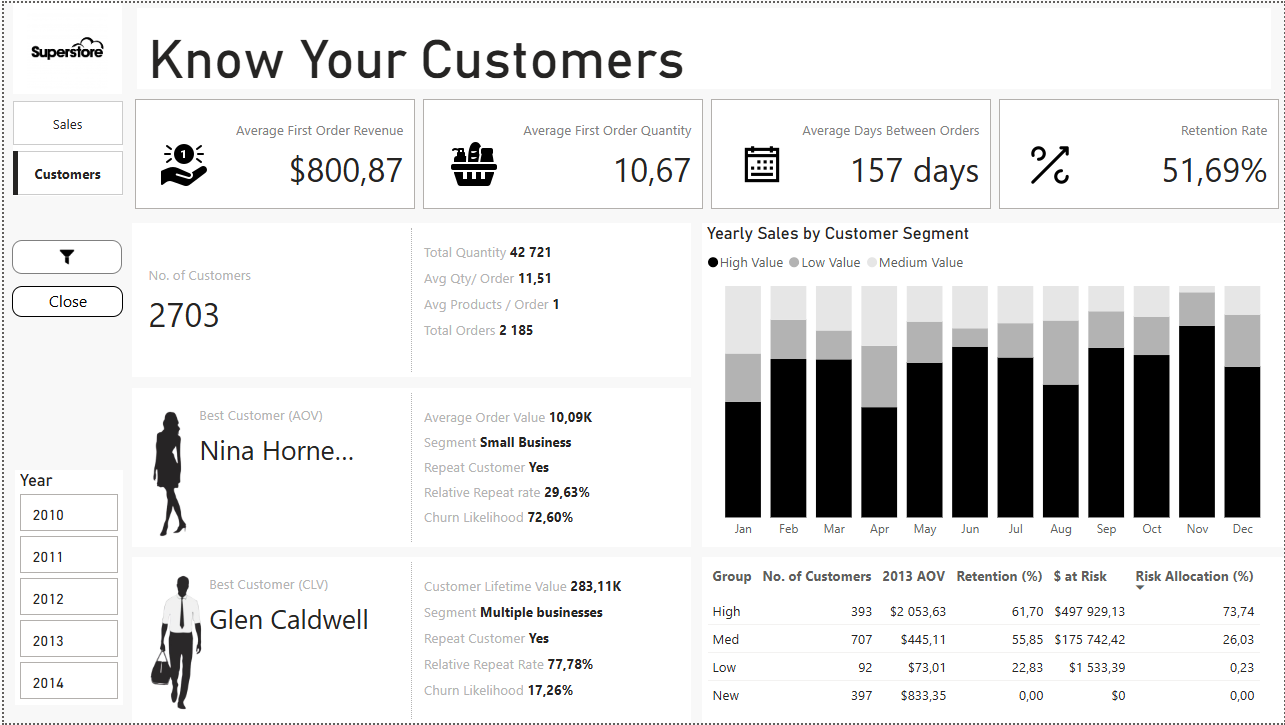

What the dashboard file says about the page in this screenshot:
{"tool":"powerbi","page":{"name":"Customers","canvas":[1280,720],"ordinal":1},"visuals":[{"type":"tableEx","fields":{"Values":["risk_budget.Customer Group","Sum(risk_budget.Number of Customers)","risk_budget.2013 AOV","risk_budget.Retention (%)","risk_budget.$ at Risk","risk_budget.Risk Allocation (%)"]},"box":[698.4,553.6,581.8,166.9],"z":0},{"type":"cardVisual","fields":{"Data":["Marketing Metrics.Best AOV"]},"box":[127.7,385.4,559.7,158.3],"z":1000},{"type":"cardVisual","fields":{"Data":["Marketing Metrics.Customer Count"]},"box":[127.7,219.7,559.7,154.7],"z":2000},{"type":"cardVisual","fields":{"Data":["Marketing Metrics.Best CLV"]},"box":[127.7,553.6,559.7,166.9],"z":3000},{"type":"hundredPercentStackedColumnChart","title":"Yearly Sales by Customer Segment ","fields":{"Category":["DateTable.Month Short Name"],"Y":["Sales Metrics.Current Sales"],"Series":["customer_metrics.Customer Segment"]},"box":[698.4,219.7,581.8,324.1],"z":4000},{"type":"cardVisual","fields":{"Data":["Marketing Metrics.Avg FirstOrder Revenue","Marketing Metrics.Avg FirstOrder Qty","Marketing Metrics.Avg days","Marketing Metrics.Retention Rate"]},"box":[126.4,90.8,1153.8,120.3],"z":5000},{"type":"pageNavigator","box":[8.6,98.2,110.5,94.5],"z":6000},{"type":"advancedSlicerVisual","fields":{"Values":["DateTable.Year"]},"box":[10.8,466.8,108.6,235.2],"z":7000},{"type":"image","box":[8.6,0,109.2,90.8],"z":8000},{"type":"cardVisual","fields":{"Data":["Sales Metrics.MktTitle"]},"box":[128,0,1143.5,91],"z":9000},{"type":"image","title":"Filter","box":[8.4,237,109.5,33.7],"z":10000},{"type":"actionButton","title":"Close","box":[8.4,282.7,110.7,31.3],"z":11500}]}

Visuals, with their boxes in screenshot pixels (x1, y1, x2, y2), scaled from the page's 1280x720 canvas onto the 1285x725 screenshot:
tableEx - risk_budget.Customer Group x Sum(risk_budget.Number of Customers): x1=701, y1=557, x2=1284, y2=724
cardVisual - Marketing Metrics.Best AOV: x1=128, y1=388, x2=690, y2=547
cardVisual - Marketing Metrics.Customer Count: x1=128, y1=221, x2=690, y2=377
cardVisual - Marketing Metrics.Best CLV: x1=128, y1=557, x2=690, y2=724
"Yearly Sales by Customer Segment " hundredPercentStackedColumnChart: x1=701, y1=221, x2=1284, y2=548
cardVisual - Marketing Metrics.Avg FirstOrder Revenue x Marketing Metrics.Avg FirstOrder Qty: x1=127, y1=91, x2=1284, y2=213
pageNavigator: x1=9, y1=99, x2=120, y2=194
advancedSlicerVisual - DateTable.Year: x1=11, y1=470, x2=120, y2=707
image: x1=9, y1=0, x2=118, y2=91
cardVisual - Sales Metrics.MktTitle: x1=128, y1=0, x2=1276, y2=92
"Filter" image: x1=8, y1=239, x2=118, y2=273
"Close" actionButton: x1=8, y1=285, x2=120, y2=316
